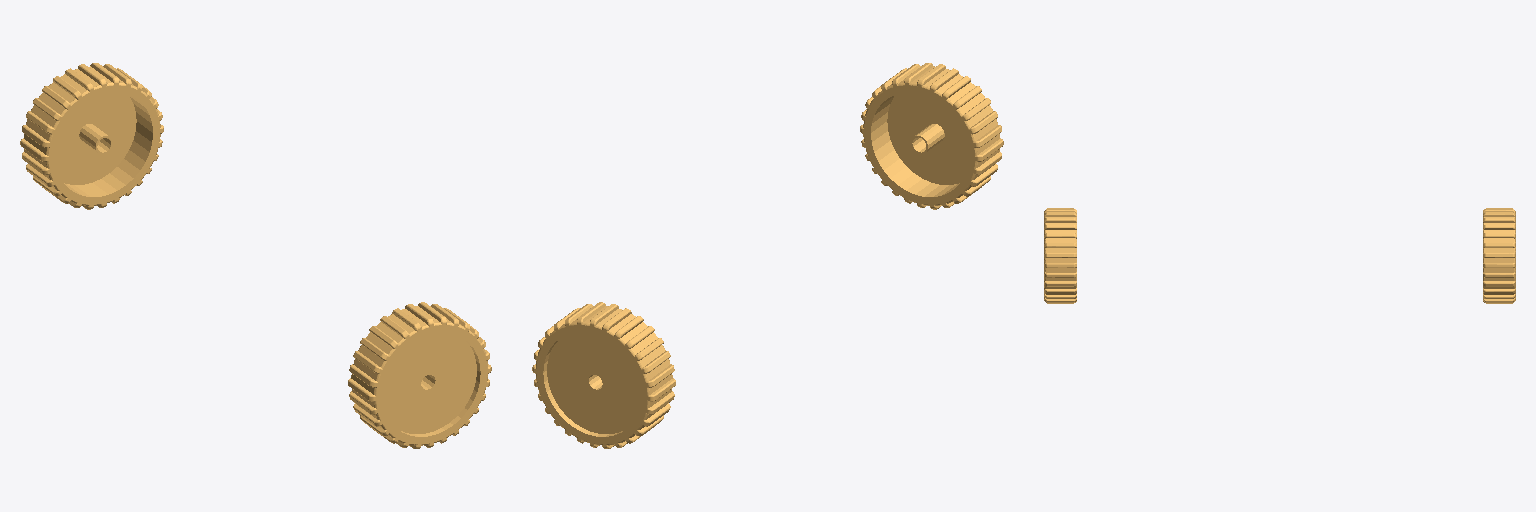
The robot description file, URDF, robot "robot_urdf4":
<?xml version="1.0" encoding="utf-8"?>
<!-- This URDF was automatically created by SolidWorks to URDF Exporter! Originally created by [author] ([email redacted]) 
     Commit Version: 1.6.0-4-g7f85cfe  Build Version: 1.6.7995.38578
     For more information, please see http://wiki.ros.org/sw_urdf_exporter -->
<robot
  name="robot_urdf4">
  <link
    name="base_link">
    <inertial>
      <origin
        xyz="-0.12216 -0.00092925 -0.066105"
        rpy="0 0 0" />
      <mass
        value="28.363" />
      <inertia
        ixx="1.2348"
        ixy="-0.0062151"
        ixz="0.061302"
        iyy="0.87584"
        iyz="0.00059839"
        izz="1.6389" />
    </inertial>
    <visual>
      <origin
        xyz="0 0 0"
        rpy="0 0 0" />
      <geometry>
        <mesh
          filename="package://robot_urdf4/meshes/base_link.STL" />
      </geometry>
      <material
        name="">
        <color
          rgba="0.79216 0.81961 0.93333 1" />
      </material>
    </visual>
    <collision>
      <origin
        xyz="0 0 0"
        rpy="0 0 0" />
      <geometry>
        <mesh
          filename="package://robot_urdf4/meshes/base_link.STL" />
      </geometry>
    </collision>
  </link>
  <link
    name="banhtrai">
    <inertial>
      <origin
        xyz="-4.44079217842841E-10 -0.0145723974412093 3.05568181868665E-10"
        rpy="0 0 0" />
      <mass
        value="0.365884677160109" />
      <inertia
        ixx="0.00072840393872265"
        ixy="-1.28300005559611E-12"
        ixz="2.98288035903E-12"
        iyy="0.00131510257761303"
        iyz="3.63718745273062E-12"
        izz="0.000728403935773149" />
    </inertial>
    <visual>
      <origin
        xyz="0 0 0"
        rpy="0 0 0" />
      <geometry>
        <mesh
          filename="package://robot_urdf4/meshes/banhtrai.STL" />
      </geometry>
      <material
        name="">
        <color
          rgba="1 0.807843137254902 0.498039215686275 1" />
      </material>
    </visual>
    <collision>
      <origin
        xyz="0 0 0"
        rpy="0 0 0" />
      <geometry>
        <mesh
          filename="package://robot_urdf4/meshes/banhtrai.STL" />
      </geometry>
    </collision>
  </link>
  <joint
    name="khoptrai"
    type="continuous">
    <origin
      xyz="-0.27765 0.36108 -0.22397"
      rpy="0 0 0" />
    <parent
      link="base_link" />
    <child
      link="banhtrai" />
    <axis
      xyz="0 1 0" />
  </joint>
  <link
    name="banhphai">
    <inertial>
      <origin
        xyz="9.46449307814845E-11 0.0145723975121261 -3.16541265421577E-10"
        rpy="0 0 0" />
      <mass
        value="0.365884678332014" />
      <inertia
        ixx="0.000728403937436423"
        ixy="1.89847387657964E-12"
        ixz="-1.70465896340821E-12"
        iyy="0.00131510258079819"
        iyz="1.8909251696871E-12"
        izz="0.000728403941514376" />
    </inertial>
    <visual>
      <origin
        xyz="0 0 0"
        rpy="0 0 0" />
      <geometry>
        <mesh
          filename="package://robot_urdf4/meshes/banhphai.STL" />
      </geometry>
      <material
        name="">
        <color
          rgba="1 0.807843137254902 0.498039215686275 1" />
      </material>
    </visual>
    <collision>
      <origin
        xyz="0 0 0"
        rpy="0 0 0" />
      <geometry>
        <mesh
          filename="package://robot_urdf4/meshes/banhphai.STL" />
      </geometry>
    </collision>
  </link>
  <joint
    name="khopphai"
    type="continuous">
    <origin
      xyz="-0.27765 -0.36108 -0.22397"
      rpy="0 0 0" />
    <parent
      link="base_link" />
    <child
      link="banhphai" />
    <axis
      xyz="0 1 0" />
  </joint>
</robot>

--- Render facts (derived) ---
3 views of the same robot in one strip: view 1: azimuth 30°, elevation 25°; view 2: azimuth 150°, elevation 25°; view 3: azimuth 270°, elevation 25° (orthographic).
Model robot_urdf4 with 3 links and 2 joints (2 continuous), rooted at base_link, posed all joints at 0.
Visible links, largest first — view 1: banhtrai, banhphai; view 2: banhtrai, banhphai; view 3: banhtrai, banhphai.
Boxes of the visible links, x1,y1,x2,y2 form: banhtrai: [20, 63, 163, 209]; banhphai: [348, 302, 491, 448]; banhtrai: [532, 302, 675, 448]; banhphai: [860, 63, 1003, 209]; banhtrai: [1483, 208, 1515, 303]; banhphai: [1044, 208, 1076, 303].
Bounding box of the posed robot: 0.1486 × 0.7372 × 0.1486 m (x, y, z).
Meshes: 3 distinct files referenced, 2 mesh visuals loaded (2 binary STL); not drawn: 1 (reference not matched to a file when rendering).